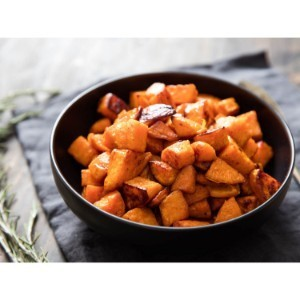sweet potato_brain food: (64, 75, 272, 228)
